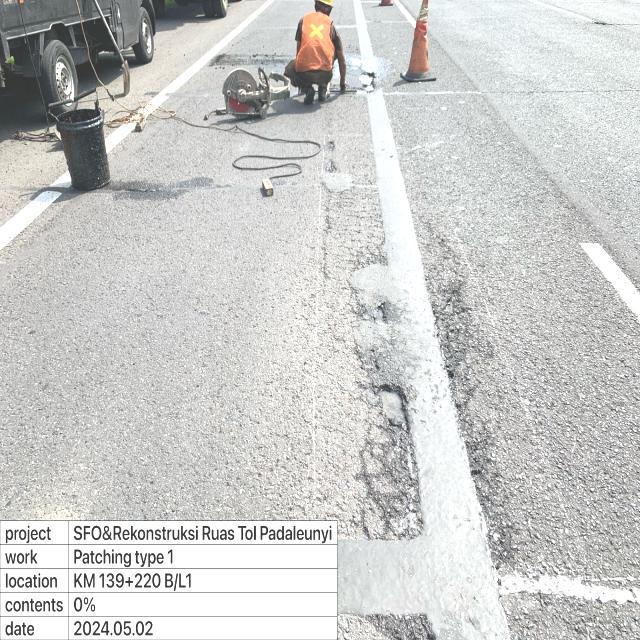Buraco: (373, 381, 412, 435), (356, 70, 378, 94)
